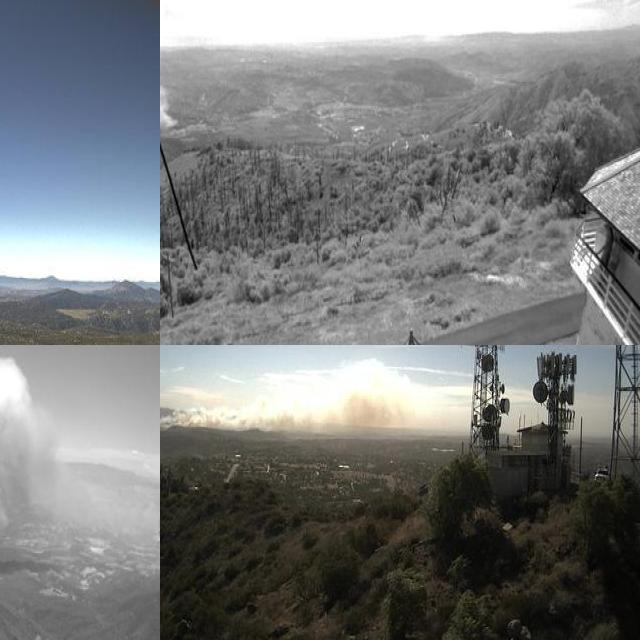smoke: (160, 369, 412, 440), (0, 353, 58, 577), (160, 27, 179, 133)
